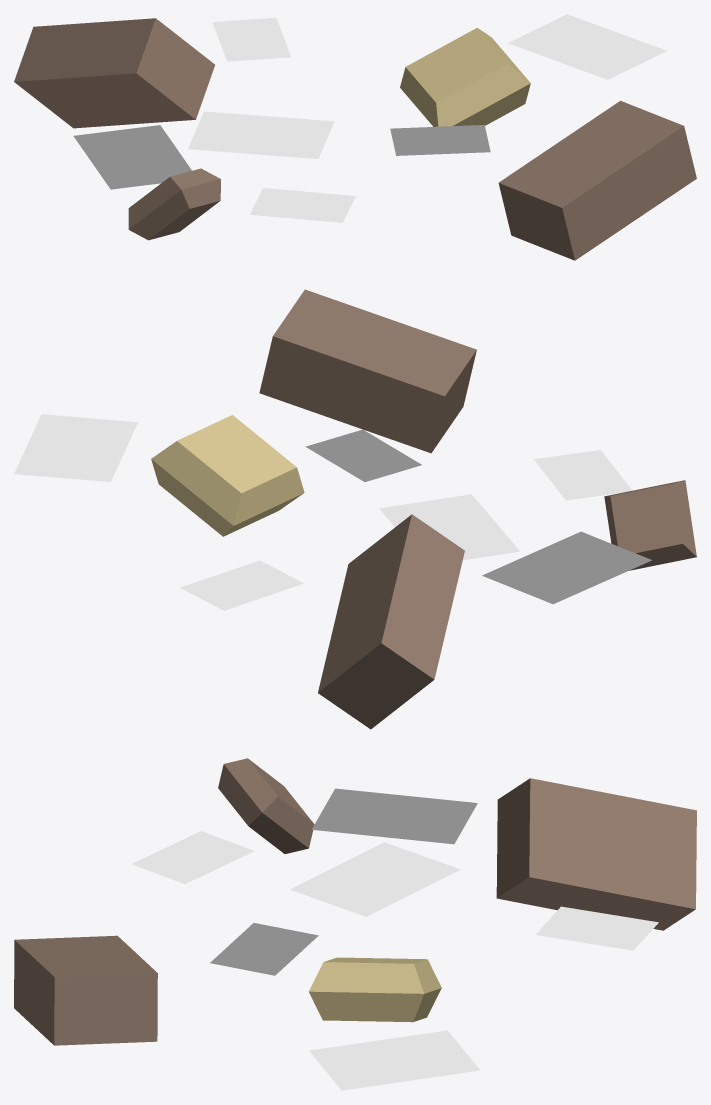
The model's file is commontrash.gltf.
The picture shows the model from 3 angles, top to bottom: view 1: azimuth 30°, elevation 25°; view 2: azimuth 150°, elevation 25°; view 3: azimuth 270°, elevation 25°; orthographic projection. The views are drawn at different scales.
Parts seen in each view (by area): view 1: Cube.002; view 2: Cube.002; view 3: Cube.002.
Boxes of the visible parts, x1,y1,x2,y2 form: Cube.002: (14,14,696,260); Cube.002: (14,289,696,729); Cube.002: (14,758,696,1090).
Bounding box in the file's own units: 1.65 × 0.4104 × 1.54.
1 material, 1 textured.
